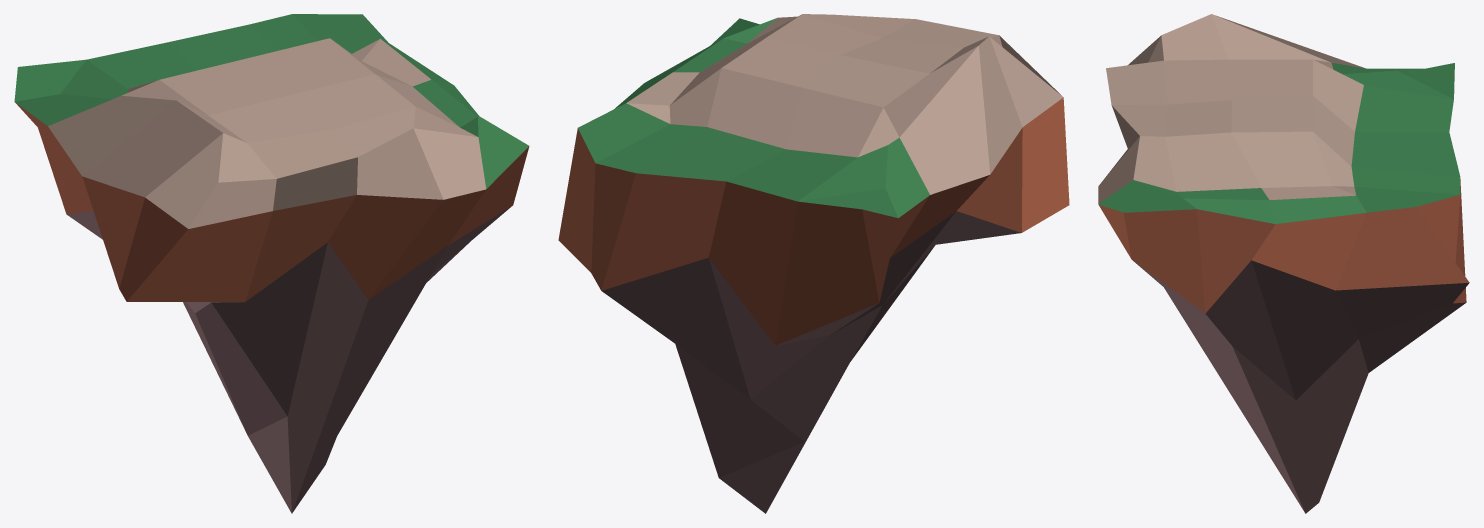
Rendered from island1.fbx.
The picture shows the model from 3 angles, left to right: view 1: azimuth 30°, elevation 25°; view 2: azimuth 150°, elevation 25°; view 3: azimuth 270°, elevation 25°; orthographic projection. The views are drawn at different scales.
Visible parts, largest first — view 1: Island1; view 2: Island1; view 3: Island1.
Boxes of the visible parts, bbox=[...] form: Island1: bbox=[14, 14, 529, 513]; Island1: bbox=[558, 14, 1069, 513]; Island1: bbox=[1098, 14, 1469, 513].
Size of the model in its own units: 716 by 840 by 660.
